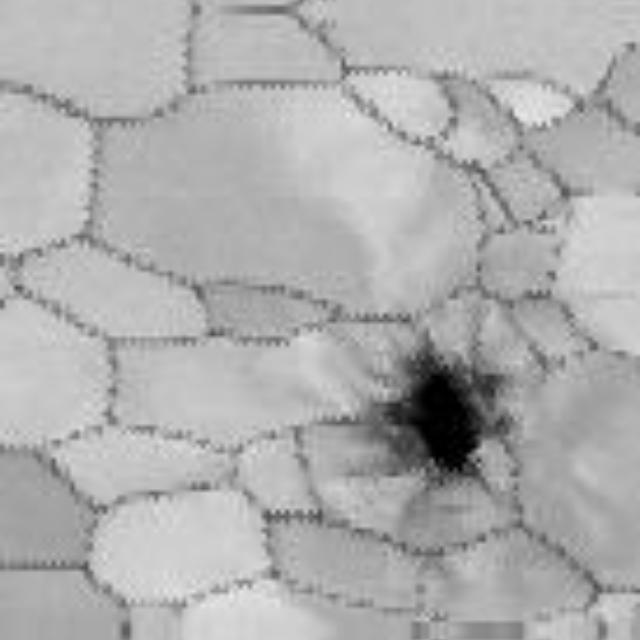good_void: (326, 307, 553, 533)
